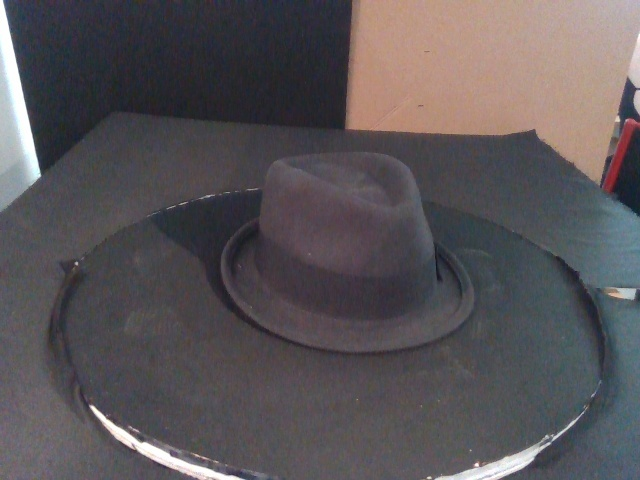hat: (219, 151, 476, 353)
